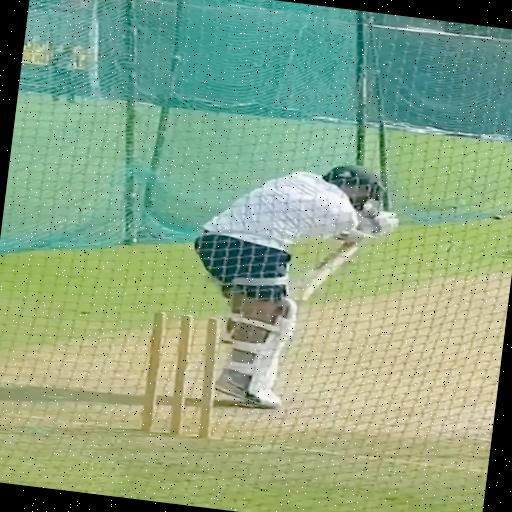Cricket bat: (293, 242, 358, 301)
